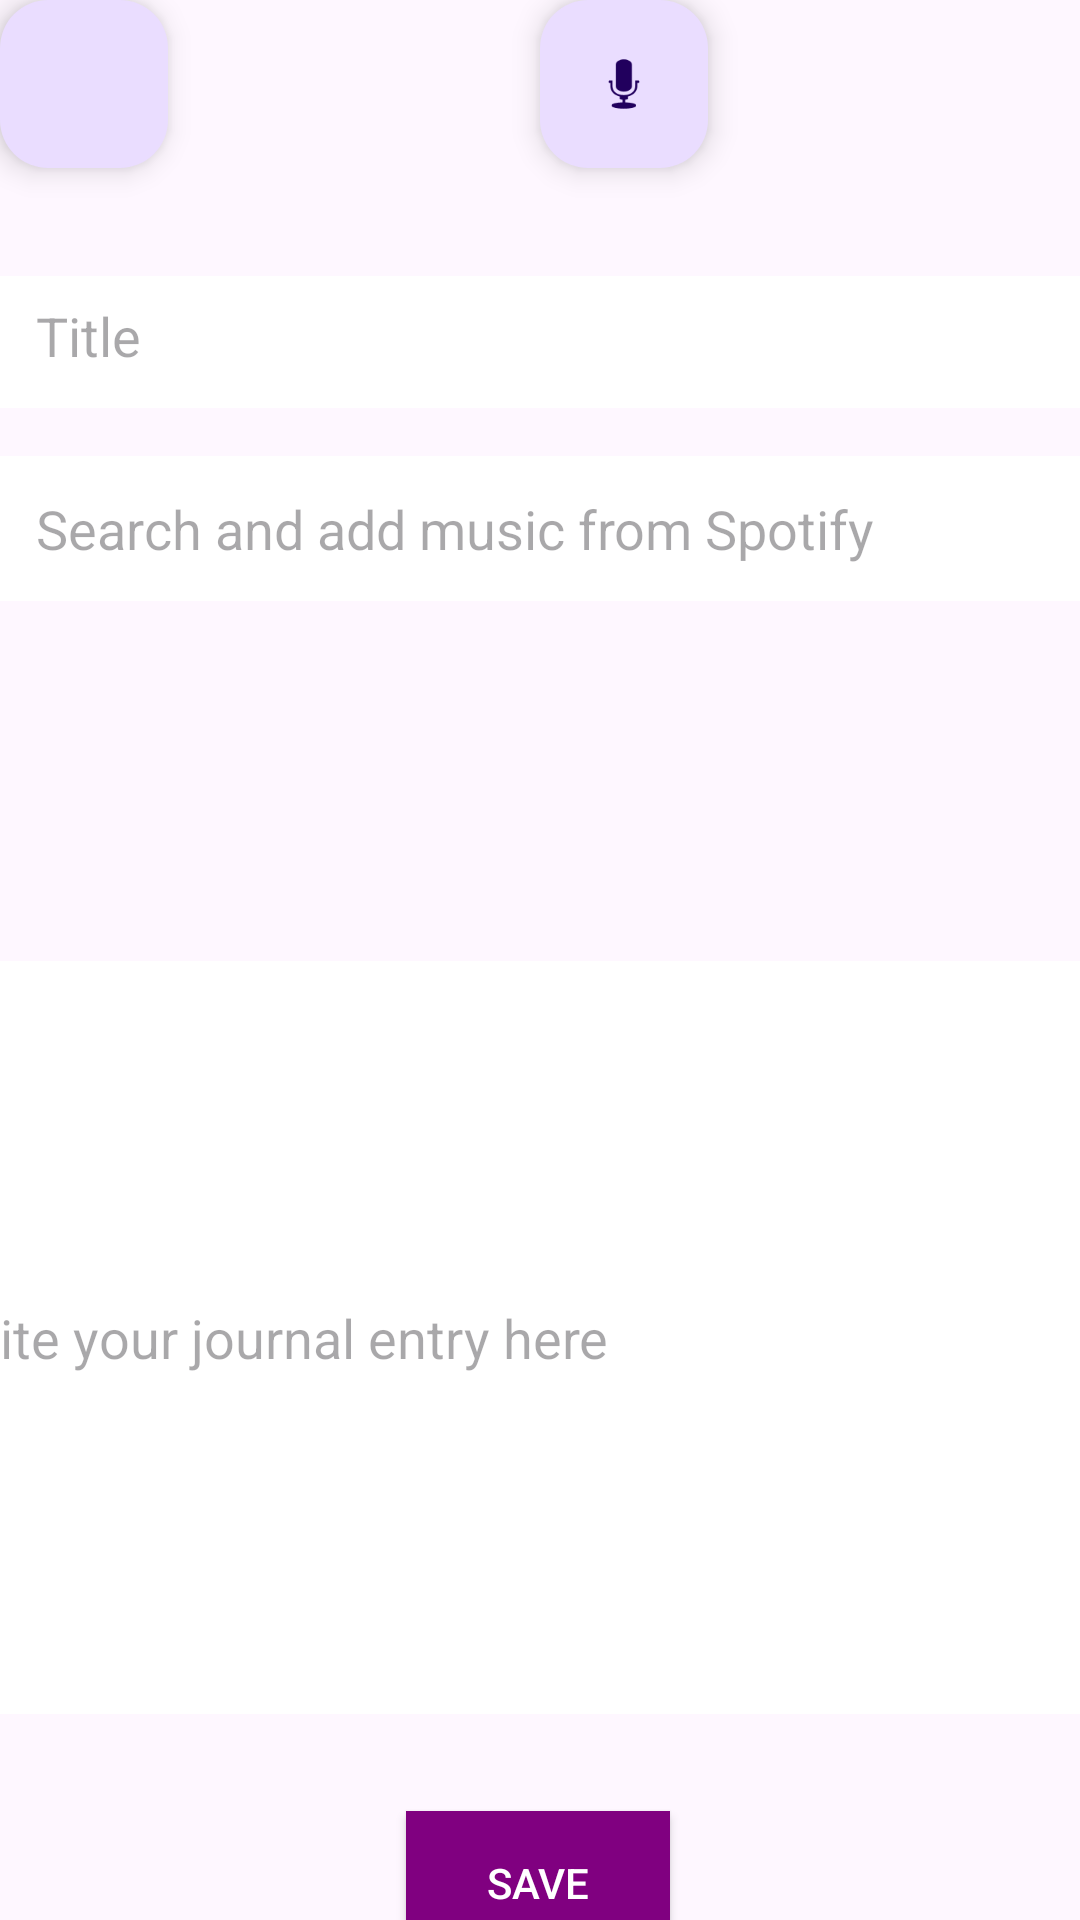

Icon bounding boxes for this 1080×1920 phone screenshot, format Rect(x1, y1, x2, y2):
speak now: Rect(608, 59, 640, 109)
